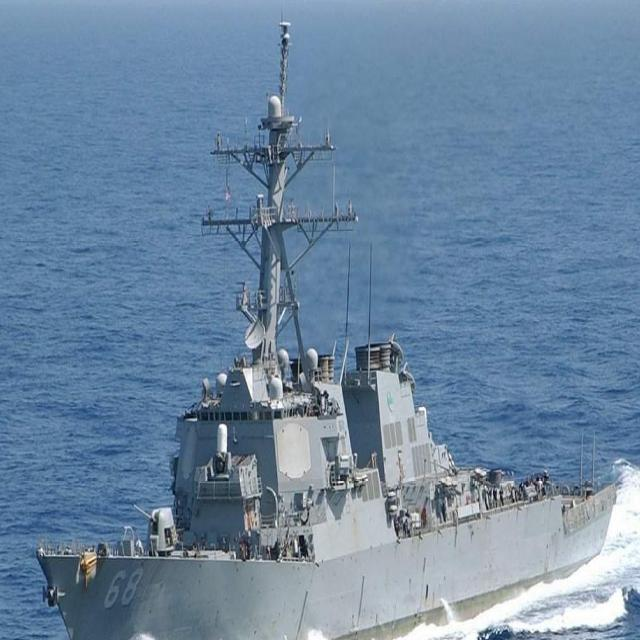navalvessels: (40, 19, 636, 631)
